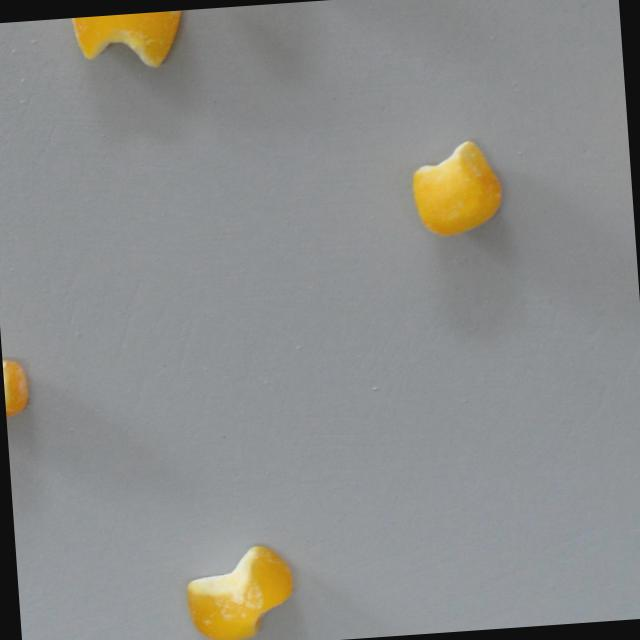pelicula: (176, 539, 303, 640), (404, 133, 511, 240), (67, 8, 192, 76), (1, 347, 33, 417)
